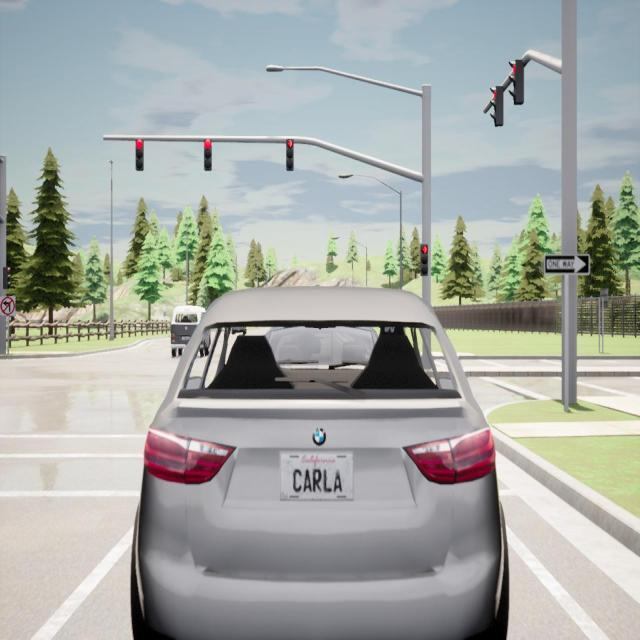Traffic_Signs: (544, 253, 590, 277), (0, 296, 15, 314)
Vehicle: (131, 287, 509, 638), (265, 326, 372, 366), (169, 303, 210, 359), (230, 326, 248, 335)
traffic_light: (509, 58, 525, 106), (489, 83, 504, 126), (135, 138, 144, 170), (420, 244, 429, 276), (204, 137, 212, 171), (286, 137, 294, 170), (2, 266, 12, 287)
